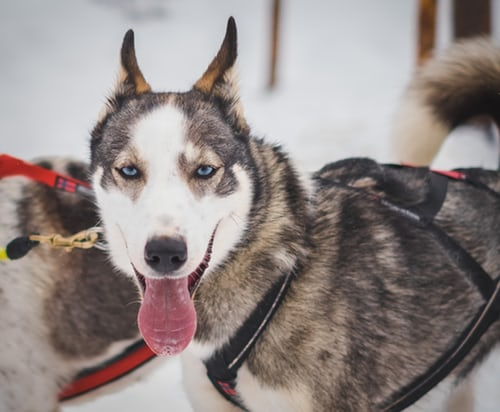husky: (83, 14, 253, 362)
